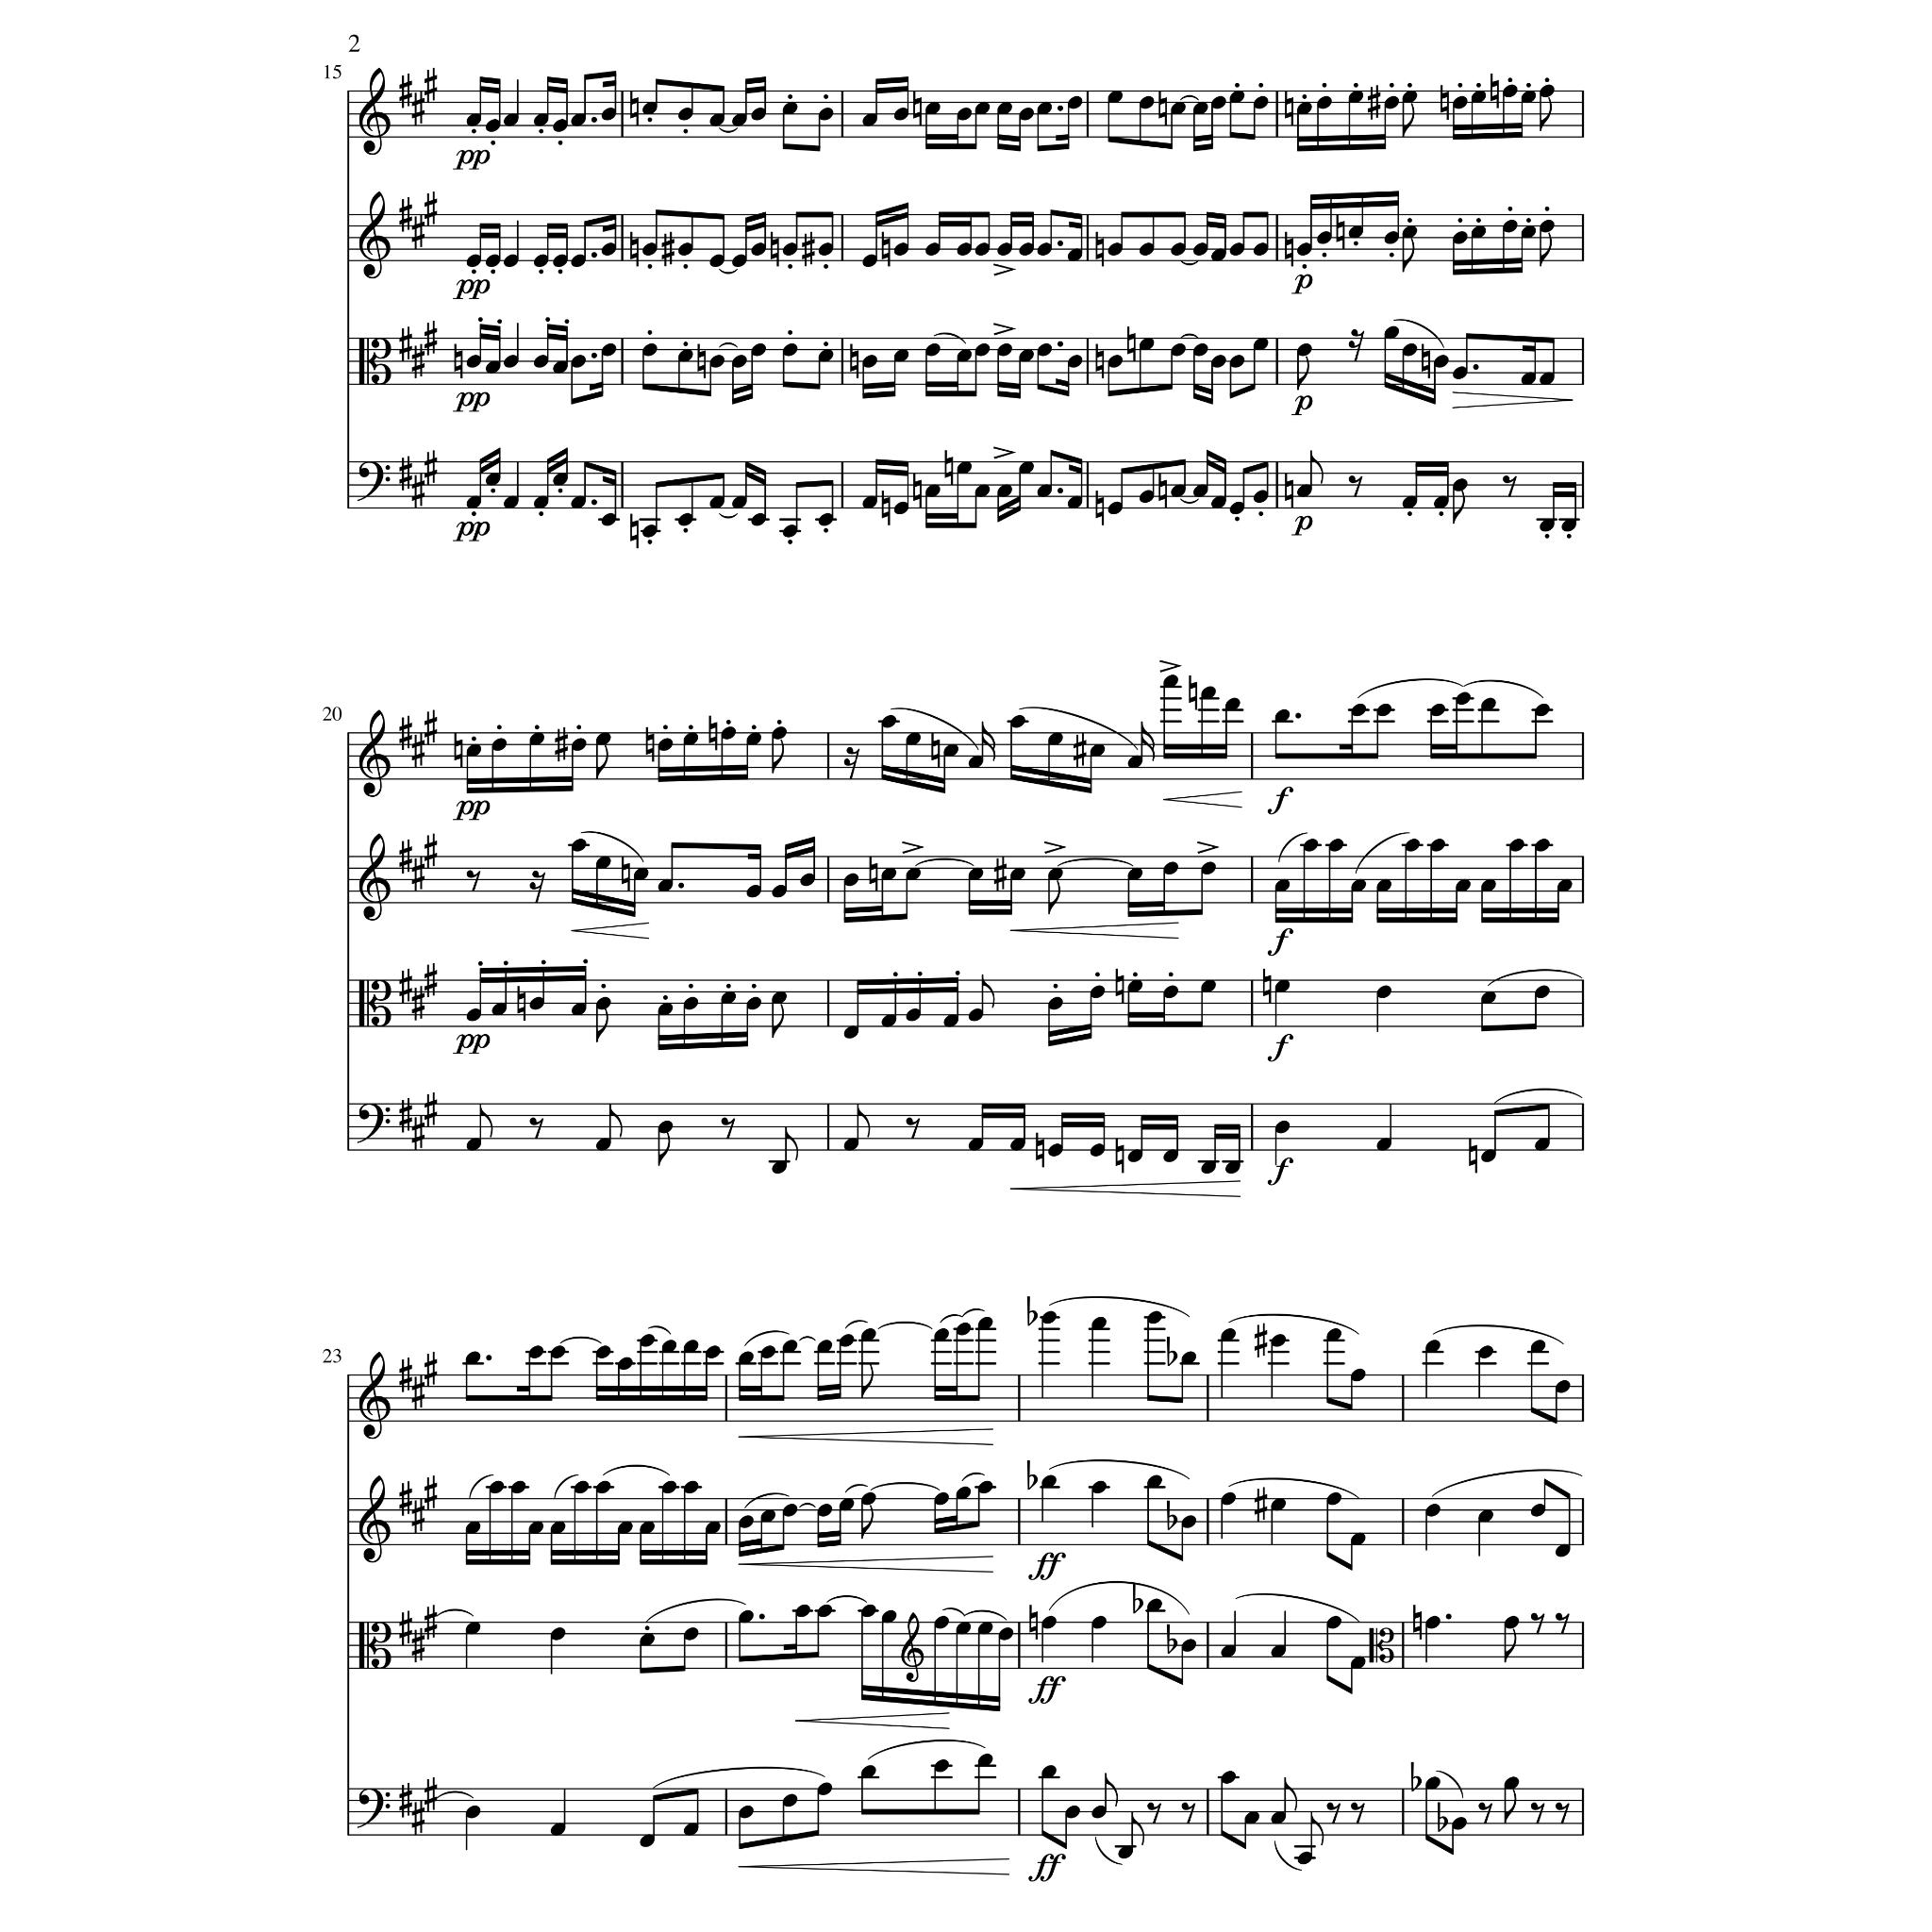fClef: (357, 460, 391, 501), (357, 1104, 391, 1145), (357, 1789, 391, 1829)
flag16thUp: (1141, 722, 1155, 761), (982, 722, 996, 761)
flag8thDown: (1049, 879, 1062, 915), (596, 745, 609, 780), (771, 1003, 784, 1039), (1504, 1628, 1516, 1663), (1504, 1789, 1516, 1824), (1297, 357, 1309, 391), (1539, 234, 1552, 267), (1539, 97, 1552, 131), (1403, 239, 1415, 272), (1403, 104, 1415, 138), (1453, 490, 1465, 524), (596, 1008, 609, 1042), (658, 1132, 671, 1166), (771, 740, 784, 773), (862, 1504, 872, 1539), (862, 1364, 872, 1398)
flag8thUp: (609, 1104, 623, 1139), (1104, 1773, 1118, 1808), (982, 975, 996, 1008), (1311, 1812, 1325, 1845), (1131, 1812, 1145, 1845), (479, 1104, 492, 1139), (858, 1104, 870, 1139), (1311, 451, 1323, 485), (786, 1127, 798, 1161), (1284, 1778, 1297, 1812)
gClef: (359, 1474, 391, 1564), (359, 67, 391, 156), (359, 191, 391, 280), (359, 709, 391, 798), (359, 833, 391, 922), (359, 1352, 391, 1440)
noteheadBlack: (1228, 242, 1246, 257), (1228, 90, 1246, 104), (1169, 343, 1187, 357), (1169, 242, 1187, 257), (1169, 485, 1187, 499), (731, 495, 748, 510), (1454, 692, 1472, 706), (745, 885, 763, 899), (745, 996, 763, 1010), (1553, 1380, 1571, 1394), (1553, 1545, 1571, 1559), (616, 1357, 633, 1371), (816, 1339, 833, 1353), (759, 1509, 777, 1523), (759, 1345, 777, 1359), (1192, 485, 1208, 499), (1192, 343, 1208, 357), (1192, 242, 1208, 257), (1210, 96, 1226, 110), (1210, 495, 1226, 510), (1295, 485, 1311, 499), (1295, 343, 1311, 357), (1253, 242, 1269, 257), (1253, 96, 1269, 110), (1295, 242, 1311, 257), (1067, 495, 1083, 510), (1067, 96, 1083, 110), (1108, 242, 1123, 257), (1108, 90, 1123, 104), (1037, 485, 1053, 499), (1037, 343, 1053, 357), (1037, 242, 1053, 257), (1138, 242, 1154, 257), (1138, 96, 1154, 110), (1560, 518, 1576, 533), (1520, 90, 1536, 104), (1520, 225, 1536, 239), (1539, 518, 1555, 533), (1539, 219, 1555, 234), (1384, 326, 1399, 340), (1384, 232, 1399, 246), (1384, 96, 1399, 110), (1401, 495, 1417, 510), (1401, 343, 1417, 357), (1401, 225, 1417, 239), (1401, 90, 1417, 104), (1348, 225, 1364, 239), (1348, 90, 1364, 104), (1316, 232, 1332, 246), (1316, 96, 1332, 110), (1470, 225, 1486, 239), (1470, 90, 1486, 104), (1502, 219, 1518, 234), (1433, 495, 1449, 510), (1453, 478, 1468, 492), (1453, 366, 1468, 380), (1453, 232, 1468, 246), (1453, 96, 1468, 110), (600, 513, 616, 527), (600, 343, 616, 357), (600, 242, 616, 257), (642, 524, 658, 538), (642, 343, 658, 357), (642, 242, 658, 257), (678, 513, 694, 527), (709, 495, 725, 510), (678, 349, 694, 363), (678, 242, 694, 257), (465, 495, 481, 510), (485, 472, 501, 487), (485, 361, 501, 375), (485, 119, 501, 133), (533, 495, 548, 510), (552, 472, 568, 487), (552, 361, 568, 375), (552, 119, 568, 133), (502, 495, 518, 510), (925, 343, 941, 357), (925, 485, 941, 499), (925, 242, 941, 257), (955, 349, 971, 363), (955, 242, 971, 257), (893, 349, 909, 363), (893, 242, 909, 257), (996, 485, 1012, 499), (996, 343, 1012, 357), (996, 242, 1012, 257), (1019, 242, 1035, 257), (1019, 349, 1035, 363), (975, 242, 991, 257), (975, 485, 991, 499), (975, 343, 991, 357), (782, 343, 798, 357), (782, 242, 798, 257), (782, 524, 798, 538), (750, 513, 766, 527), (750, 343, 766, 357), (750, 242, 766, 257), (862, 495, 878, 510), (817, 513, 833, 527), (817, 349, 833, 363), (817, 242, 833, 257), (1010, 715, 1026, 729), (1201, 1161, 1217, 1175), (1201, 686, 1217, 701), (1201, 862, 1217, 876), (1201, 978, 1217, 993), (1224, 1161, 1240, 1175), (1274, 978, 1290, 993), (1274, 1120, 1290, 1134), (1047, 1143, 1063, 1157), (1090, 985, 1106, 1000), (1090, 1143, 1106, 1157), (1010, 1138, 1026, 1152), (1047, 996, 1063, 1010), (1162, 674, 1178, 688), (1162, 862, 1178, 876), (1162, 985, 1178, 1000), (1162, 1148, 1178, 1162), (1127, 755, 1143, 770), (1127, 978, 1143, 993), (1127, 1148, 1143, 1162), (1376, 985, 1392, 1000), (1376, 1138, 1392, 1152), (1481, 991, 1497, 1005), (1481, 1148, 1497, 1162), (594, 996, 610, 1010), (594, 1138, 610, 1152), (571, 738, 587, 752), (683, 996, 699, 1010), (720, 991, 736, 1005), (656, 738, 672, 752), (656, 1120, 672, 1134), (465, 1138, 481, 1152), (529, 996, 545, 1010), (492, 738, 508, 752), (881, 1014, 897, 1028), (881, 715, 897, 729), (968, 755, 984, 770), (968, 1138, 984, 1152), (943, 1014, 959, 1028), (771, 885, 787, 899), (771, 991, 787, 1005), (771, 1161, 787, 1175), (800, 872, 816, 886), (842, 872, 858, 886), (842, 1024, 858, 1039), (842, 1138, 858, 1152), (1325, 1615, 1341, 1629), (1350, 1532, 1366, 1546), (1350, 1656, 1366, 1670), (1092, 1316, 1108, 1330), (1092, 1481, 1108, 1495), (1092, 1615, 1108, 1629), (1180, 1352, 1196, 1366), (1180, 1514, 1196, 1529), (1180, 1638, 1196, 1652), (1118, 1845, 1134, 1859), (1146, 1311, 1162, 1325), (1146, 1476, 1162, 1490), (1146, 1599, 1162, 1614), (1424, 1339, 1440, 1353), (1424, 1615, 1440, 1629), (1530, 1339, 1546, 1353), (1477, 1345, 1493, 1359), (1477, 1509, 1493, 1523), (1504, 1615, 1520, 1629), (662, 1481, 678, 1495), (662, 1339, 678, 1353), (683, 1339, 699, 1353), (683, 1481, 699, 1495), (683, 1628, 699, 1642), (683, 1822, 699, 1836), (738, 1352, 754, 1366), (738, 1514, 754, 1529), (738, 1610, 754, 1624), (704, 1345, 720, 1359), (465, 1352, 481, 1366), (550, 1822, 566, 1836), (573, 1481, 589, 1495), (594, 1345, 610, 1359), (594, 1481, 610, 1495), (488, 1481, 504, 1495), (510, 1481, 525, 1495), (527, 1345, 543, 1359), (550, 1345, 566, 1359), (550, 1628, 566, 1642), (934, 1759, 950, 1773), (955, 1322, 971, 1336), (955, 1486, 971, 1500), (881, 1610, 897, 1624), (934, 1615, 950, 1629), (998, 1628, 1014, 1642), (1040, 1311, 1056, 1325), (1040, 1476, 1056, 1490), (1040, 1615, 1056, 1629), (1040, 1764, 1056, 1778), (977, 1316, 993, 1330), (977, 1481, 993, 1495), (977, 1753, 993, 1767), (782, 1339, 798, 1353), (782, 1794, 798, 1808), (862, 1764, 878, 1778), (1228, 502, 1246, 515), (1228, 356, 1246, 368), (1169, 103, 1187, 115), (731, 113, 748, 126), (731, 356, 748, 368), (731, 255, 748, 267), (1327, 839, 1345, 851), (1454, 879, 1472, 892), (745, 732, 763, 745), (616, 1522, 633, 1534), (816, 1504, 833, 1516), (816, 1605, 833, 1617), (816, 1783, 833, 1796), (571, 495, 586, 510), (1536, 985, 1550, 1000), (1536, 1138, 1550, 1152), (1192, 103, 1208, 115), (1210, 356, 1226, 368), (1210, 249, 1226, 262), (1253, 490, 1269, 502), (1253, 338, 1269, 350), (1295, 103, 1311, 115), (1067, 356, 1083, 368), (1067, 249, 1083, 262), (1108, 502, 1123, 515), (1108, 356, 1123, 368), (1037, 103, 1053, 115), (1138, 490, 1154, 502), (1138, 338, 1154, 350), (1520, 373, 1536, 386), (1539, 373, 1555, 386), (1539, 85, 1555, 97), (1502, 85, 1518, 97), (1433, 356, 1449, 368), (642, 103, 658, 115), (600, 108, 616, 120), (709, 356, 725, 368), (709, 255, 725, 267), (709, 113, 725, 126), (678, 108, 694, 120), (465, 356, 481, 368), (485, 255, 501, 267), (465, 255, 481, 267), (465, 113, 481, 126), (552, 255, 568, 267), (502, 356, 518, 368), (502, 255, 518, 267), (502, 113, 518, 126), (533, 356, 548, 368), (533, 255, 548, 267), (533, 113, 548, 126), (925, 103, 941, 115), (955, 462, 971, 474), (955, 108, 971, 120), (893, 502, 909, 515), (893, 108, 909, 120), (996, 103, 1012, 115), (1019, 462, 1035, 474), (1019, 108, 1035, 120), (975, 103, 991, 115), (782, 103, 798, 115), (750, 108, 766, 120), (862, 356, 878, 368), (862, 255, 878, 267), (862, 113, 878, 126), (817, 108, 833, 120), (1274, 709, 1290, 722), (1224, 699, 1240, 711), (1274, 879, 1290, 892), (1090, 745, 1106, 757), (1010, 869, 1026, 881), (1047, 732, 1063, 745), (1047, 869, 1063, 881), (1127, 869, 1143, 881), (1557, 879, 1573, 892), (1509, 839, 1525, 851), (1376, 704, 1392, 717), (1376, 879, 1392, 892), (1302, 839, 1318, 851), (1405, 839, 1421, 851), (1350, 704, 1366, 717), (1350, 879, 1366, 892), (1481, 699, 1497, 711), (1481, 879, 1497, 892), (1430, 704, 1445, 717), (1430, 839, 1445, 851), (594, 856, 610, 869), (633, 869, 649, 881), (571, 839, 587, 851), (571, 1003, 587, 1016), (594, 732, 610, 745), (683, 732, 699, 745), (720, 727, 736, 740), (656, 879, 672, 892), (656, 1003, 672, 1016), (465, 745, 481, 757), (465, 1008, 481, 1021), (529, 732, 545, 745), (492, 1003, 508, 1016), (906, 732, 922, 745), (906, 869, 922, 881), (906, 1008, 922, 1021), (881, 869, 897, 881), (968, 869, 984, 881), (968, 1008, 984, 1021), (943, 745, 959, 757), (771, 727, 787, 740), (1244, 1812, 1260, 1824), (1270, 1334, 1286, 1346), (1221, 1329, 1237, 1341), (1221, 1493, 1237, 1506), (1221, 1645, 1237, 1658), (1221, 1771, 1237, 1783), (1325, 1329, 1341, 1341), (1325, 1493, 1341, 1506), (1350, 1369, 1366, 1382), (1270, 1645, 1286, 1658), (1270, 1812, 1286, 1824), (1270, 1499, 1286, 1511), (1297, 1852, 1313, 1865), (1065, 1806, 1081, 1819), (1092, 1806, 1108, 1819), (1424, 1504, 1440, 1516), (1424, 1776, 1440, 1789), (1530, 1504, 1546, 1516), (1504, 1776, 1520, 1789), (1451, 1817, 1467, 1829), (639, 1334, 655, 1346), (639, 1522, 655, 1534), (639, 1633, 655, 1645), (639, 1835, 655, 1847), (738, 1806, 754, 1819), (704, 1522, 720, 1534), (465, 1522, 481, 1534), (465, 1622, 481, 1635), (465, 1806, 481, 1819), (527, 1522, 543, 1534), (550, 1522, 566, 1534), (955, 1622, 971, 1635), (934, 1329, 950, 1341), (934, 1493, 950, 1506), (977, 1622, 993, 1635), (794, 1605, 810, 1617), (782, 1504, 798, 1516), (839, 1499, 855, 1511), (839, 1334, 855, 1346), (862, 1329, 878, 1341), (862, 1493, 878, 1506), (862, 1605, 878, 1617), (571, 255, 586, 267), (571, 356, 586, 368), (571, 113, 586, 126), (1536, 704, 1550, 717), (1536, 839, 1550, 851)
rest16th: (1348, 329, 1366, 363), (529, 870, 545, 904), (844, 747, 860, 780)
rest8th: (720, 1116, 736, 1139), (1350, 1801, 1366, 1824), (1477, 1801, 1493, 1824), (465, 870, 481, 892), (1348, 476, 1362, 499), (1502, 476, 1516, 499), (529, 1116, 543, 1139), (906, 1116, 920, 1139), (1327, 1801, 1341, 1824), (1182, 1801, 1196, 1824), (1146, 1801, 1161, 1824), (1555, 1612, 1569, 1635), (1555, 1801, 1569, 1824), (1530, 1612, 1545, 1635), (1530, 1801, 1545, 1824)
